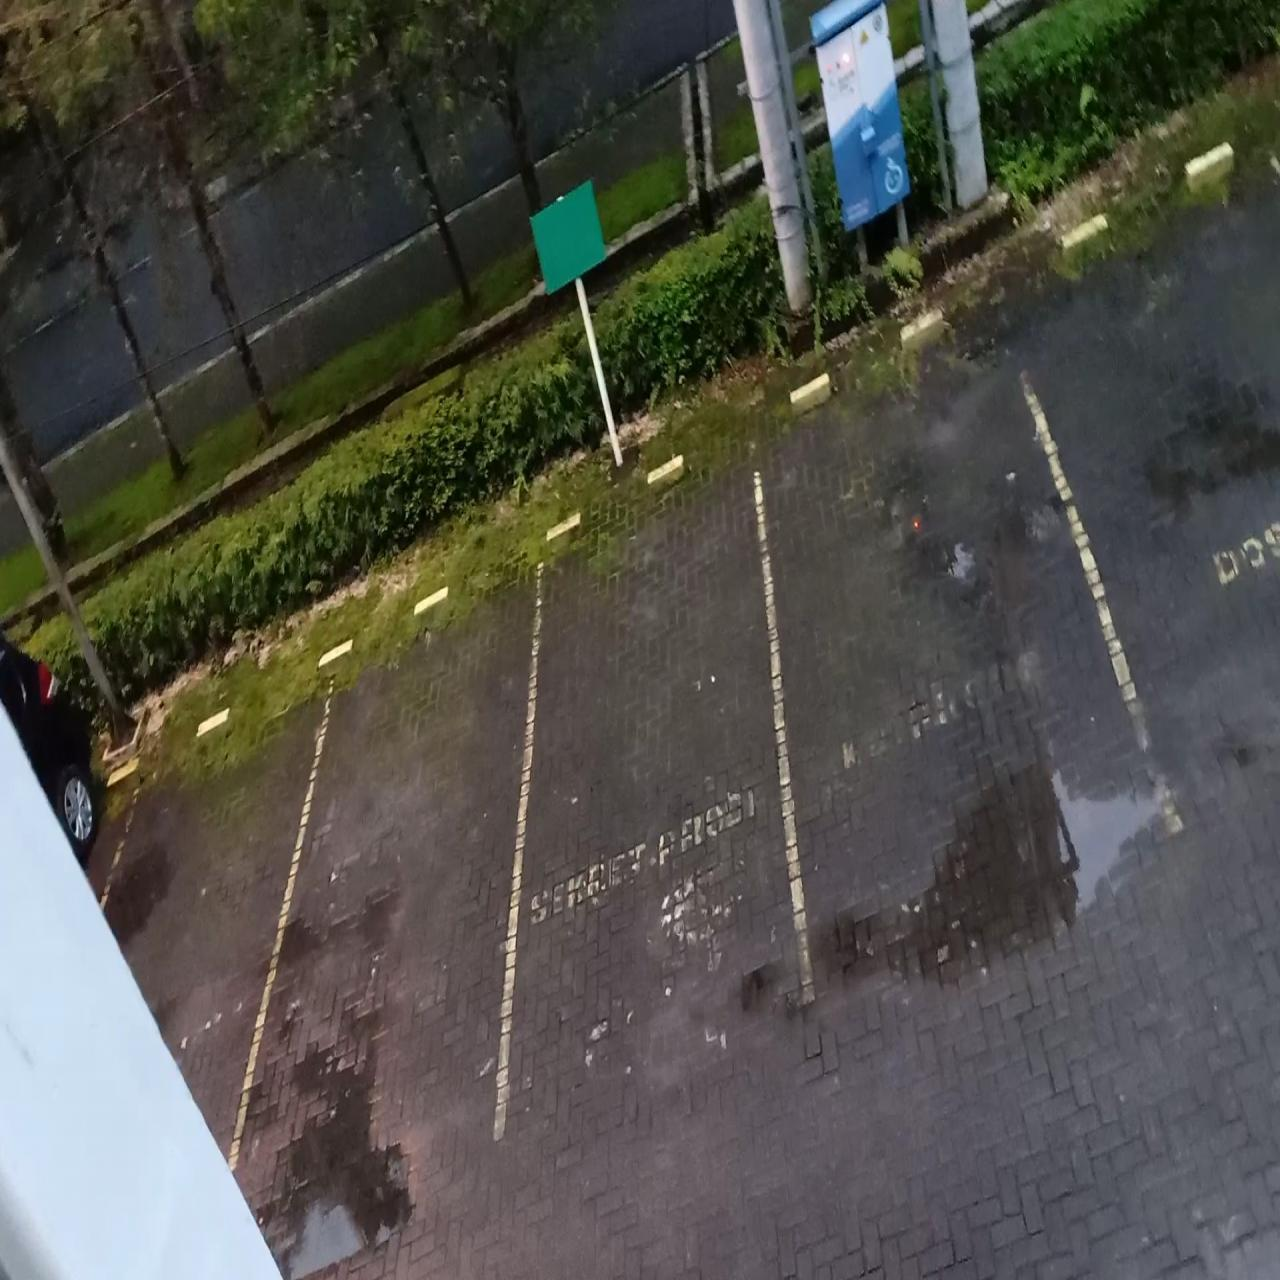empty: (761, 322, 1094, 1006), (509, 472, 779, 1117), (271, 588, 529, 1192)
